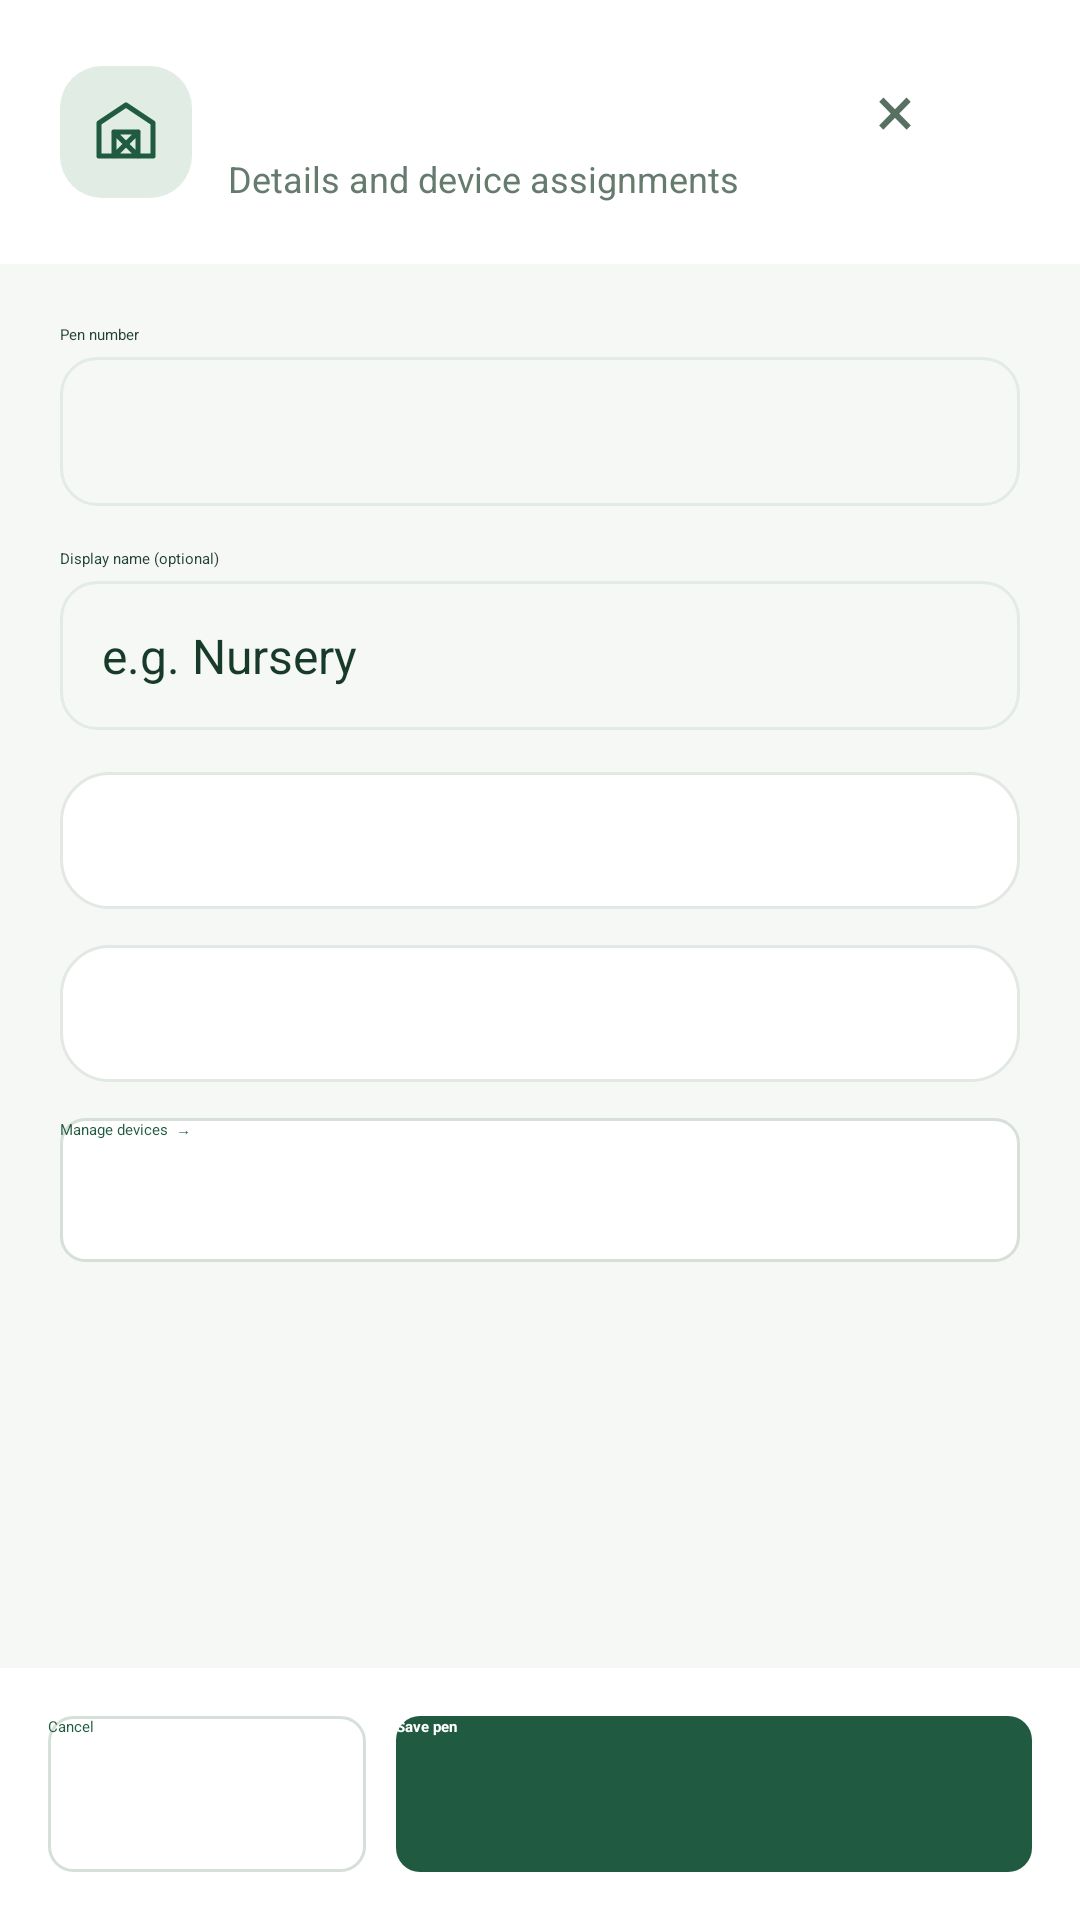

Icon bounding boxes for this 1080x1920 phone screenshot, format (x1, y1, x2, y2):
pens: (60, 66, 192, 198)
